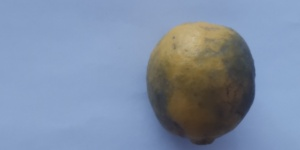BAD: (142, 21, 257, 149)
